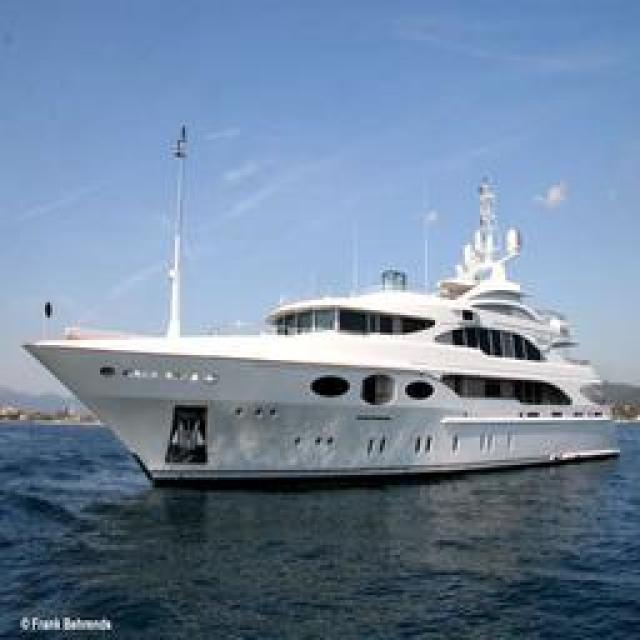CIV_Ship: (21, 129, 619, 479)
